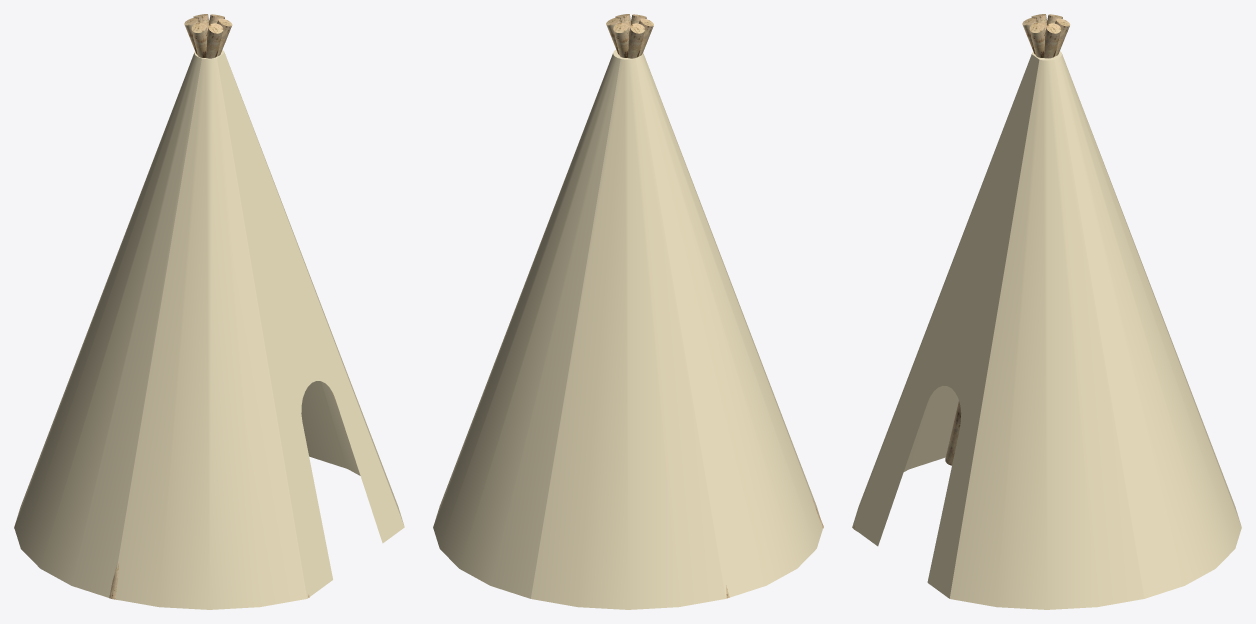
File: kcadır.dae
3 renders of one model, left to right at view 1: azimuth 30°, elevation 25°; view 2: azimuth 150°, elevation 25°; view 3: azimuth 270°, elevation 25°, orthographic.
Parts seen in each view (by area): view 1: group_0; view 2: group_0; view 3: group_0, tipi_beam.
Part boxes in pixels (x1,y1,x2,y2): group_0: (14, 50, 404, 609); group_0: (433, 50, 822, 609); group_0: (852, 51, 1241, 609); tipi_beam: (945, 23, 1060, 465).
Bounding box in the file's own units: 78.58 × 78.58 × 114.
Materials: 2 (1 with a texture image).
